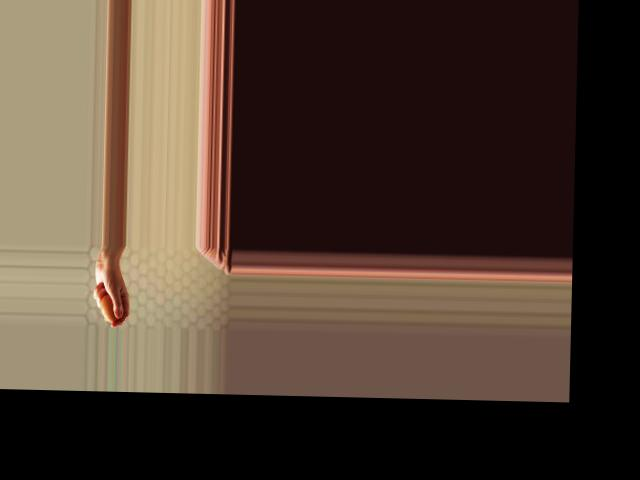egg: (98, 293, 121, 322)
